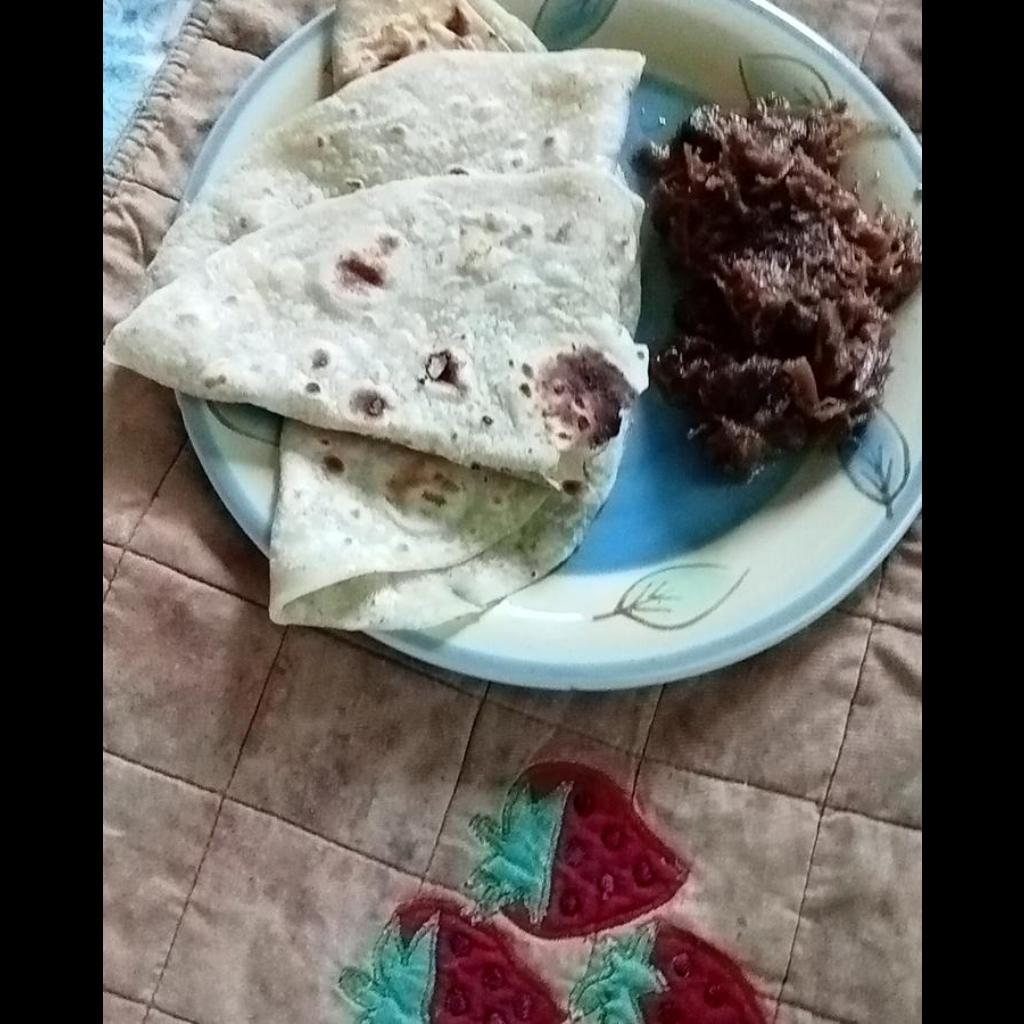beef: (633, 97, 920, 472)
ruti: (102, 0, 653, 633)
